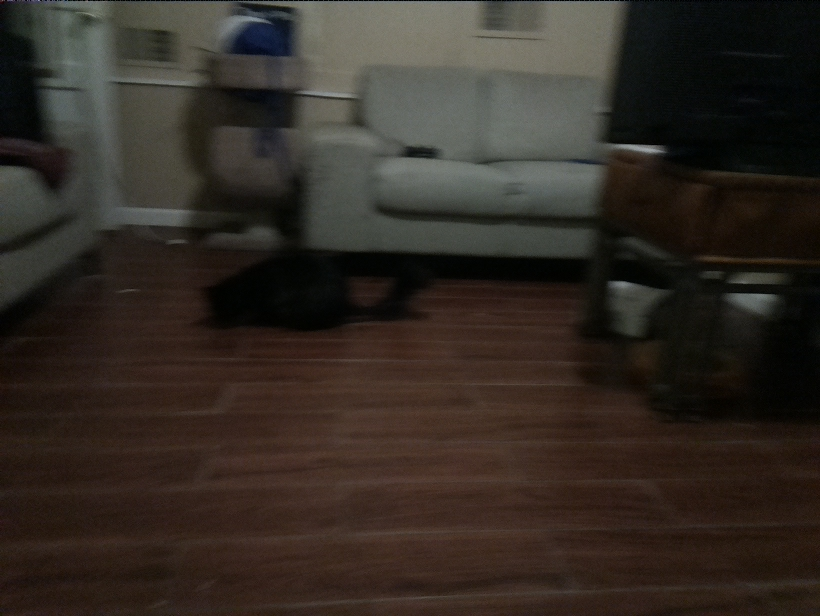cat: (191, 238, 438, 337)
